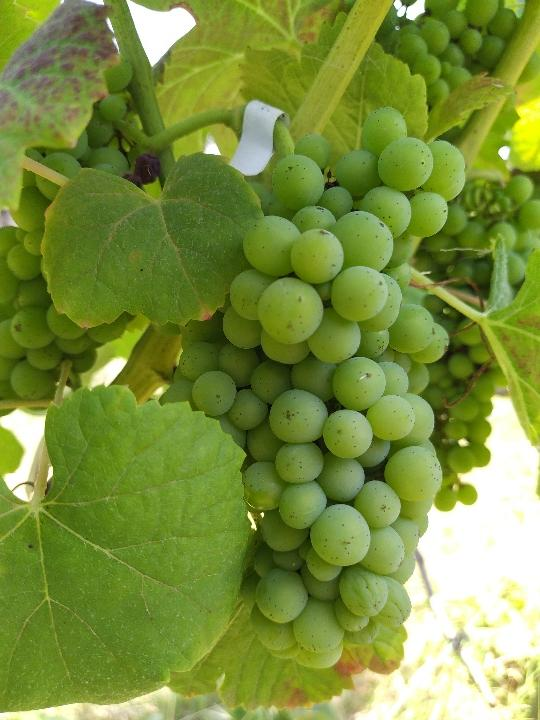grape: (152, 103, 469, 672)
